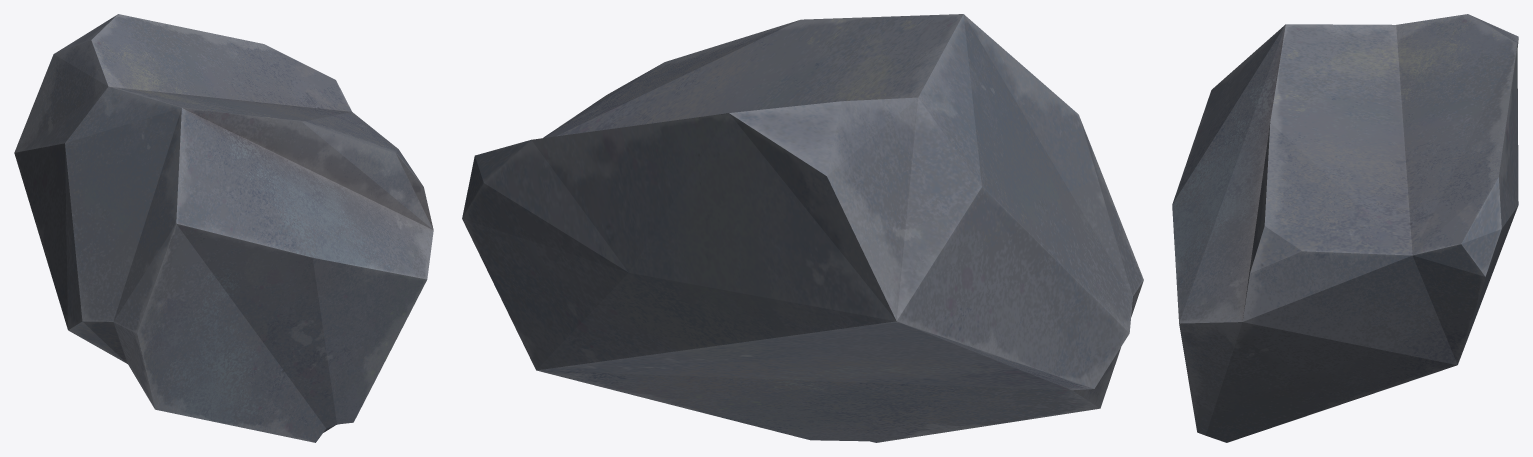
Rendered from rock4.glb.
3 renders of one model, left to right at view 1: azimuth 30°, elevation 25°; view 2: azimuth 150°, elevation 25°; view 3: azimuth 270°, elevation 25°, orthographic. The views are drawn at different scales.
Visible parts, largest first — view 1: Object_68; view 2: Object_68; view 3: Object_68.
Boxes of the visible parts, box(x1,y1,x2,y2) form: Object_68: box(14, 14, 433, 442); Object_68: box(462, 14, 1143, 442); Object_68: box(1172, 14, 1518, 442).
Bounding box in the file's own units: 2.02 × 1.92 × 1.67.
Materials: 1 (1 with a texture image).
